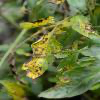Tomato Early blight leaf: (23, 32, 58, 78), (68, 15, 99, 38), (19, 17, 56, 28)
